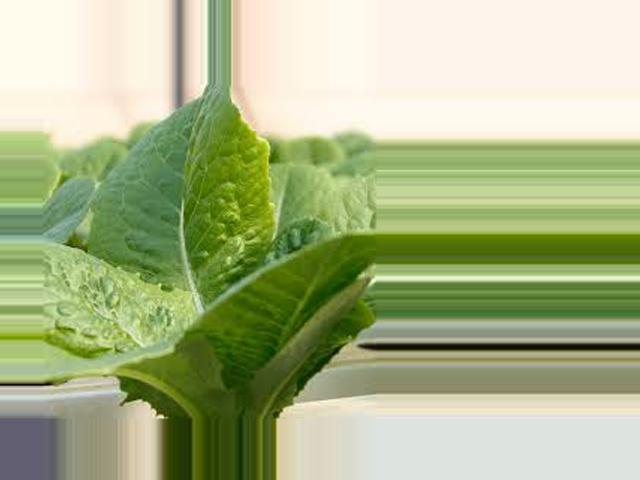lettuce: (74, 114, 369, 420)
